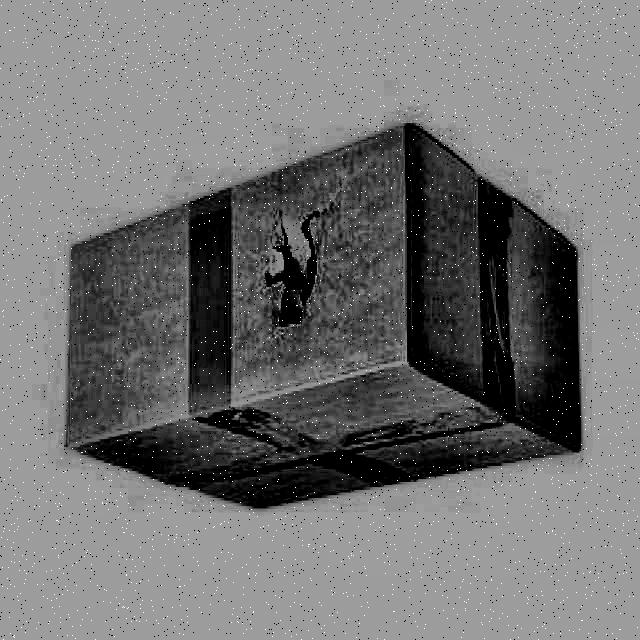box: (43, 116, 601, 514)
hole: (263, 210, 331, 326)
